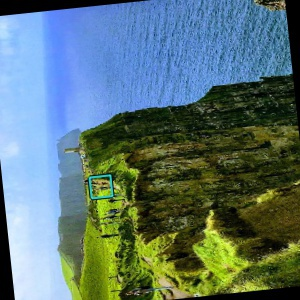square: (86, 172, 116, 202)
